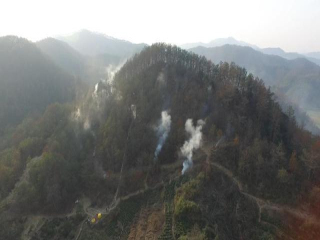smoke: (68, 63, 206, 177)
